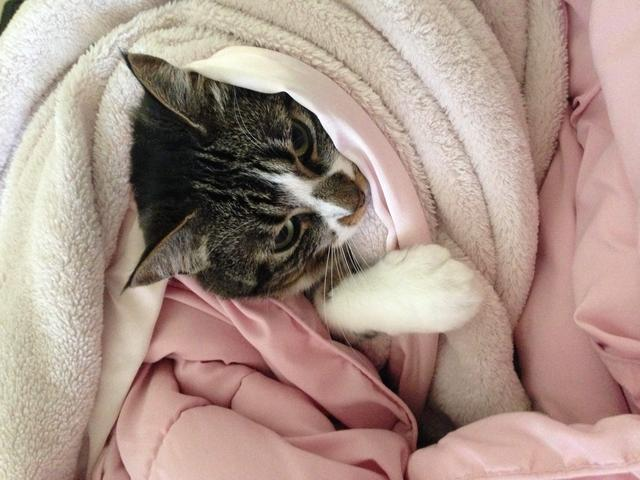playdoh: (121, 51, 483, 339)
